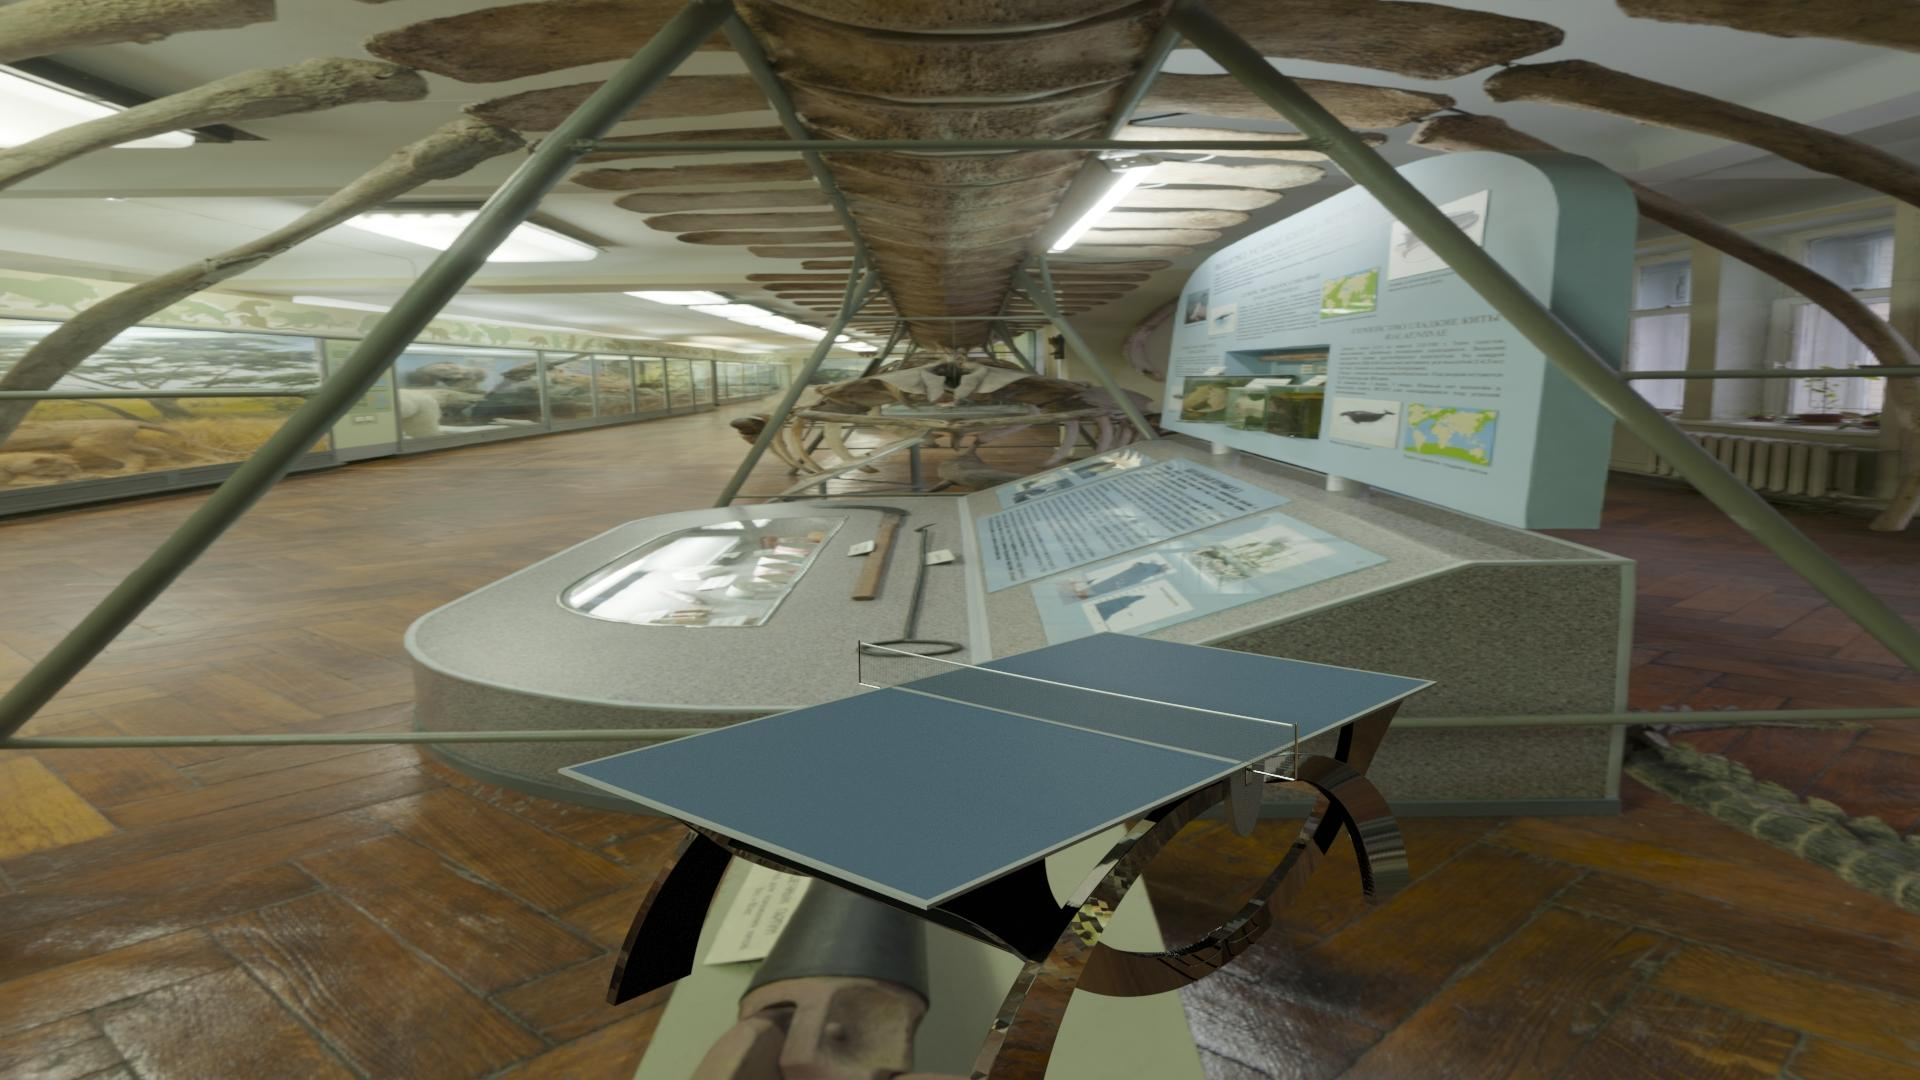table: (567, 632, 1429, 901)
